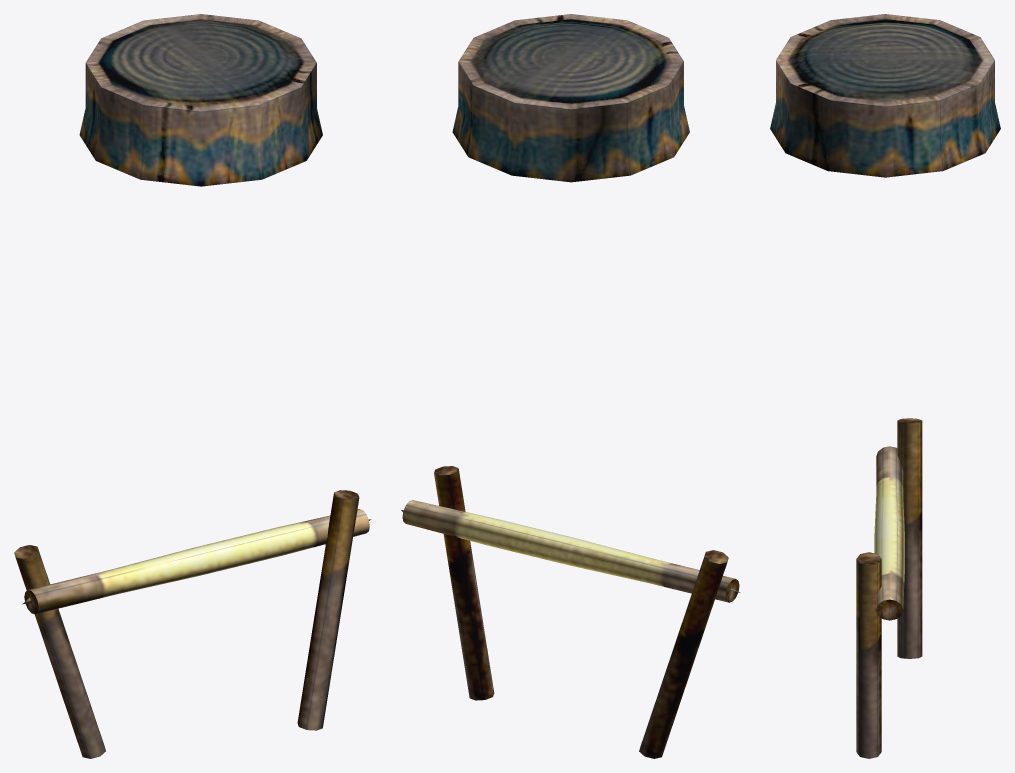
Rendered from ball.obj.
3 views of the same model, side by side, from view 1: azimuth 30°, elevation 25°; view 2: azimuth 150°, elevation 25°; view 3: azimuth 270°, elevation 25° (orthographic). The views are drawn at different scales.
Visible parts, largest first — view 1: ball; view 2: ball; view 3: ball.
Boxes of the visible parts, x1=… form: ball: x1=14, y1=14, x2=371, y2=758; ball: x1=401, y1=14, x2=740, y2=758; ball: x1=770, y1=14, x2=1000, y2=758.
Size of the model in its own units: 19.17 by 36.02 by 11.57.
1 material, 1 textured.
